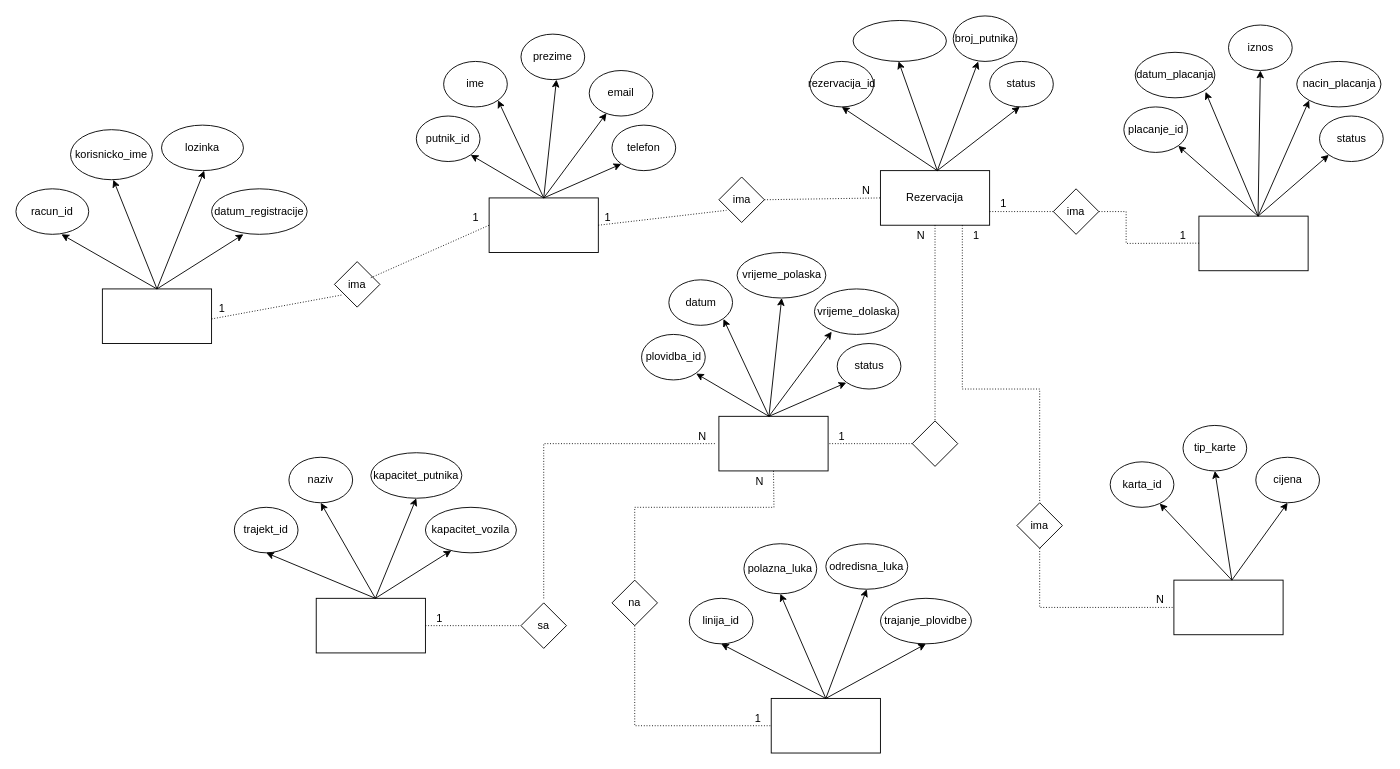
Some shapes in this 1400 by 769 pixel diagram are drawn without their labels. The centre of each missing label's shape, as x and y in pixels:
"datum_rezervacije" goes at point 899,40.
"Karta" goes at point 1228,607.
"Korisnički račun" goes at point 156,316.
"Linija" goes at point 825,725.
"Plaćanje" goes at point 1253,243.
"Plovidba" goes at point 773,443.
"Putnik" goes at point 543,225.
"Trajekt" goes at point 370,625.
"za" goes at point 934,443.
